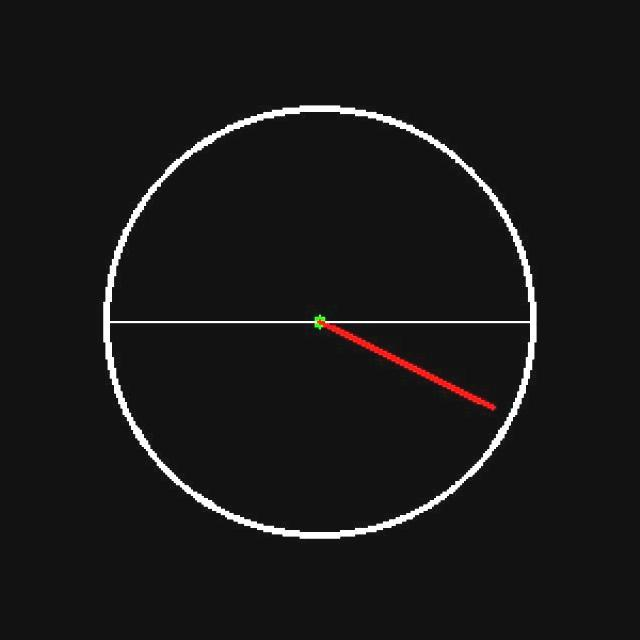Needle_Tip: (462, 375, 512, 435)
Needle_base: (278, 301, 362, 346)
